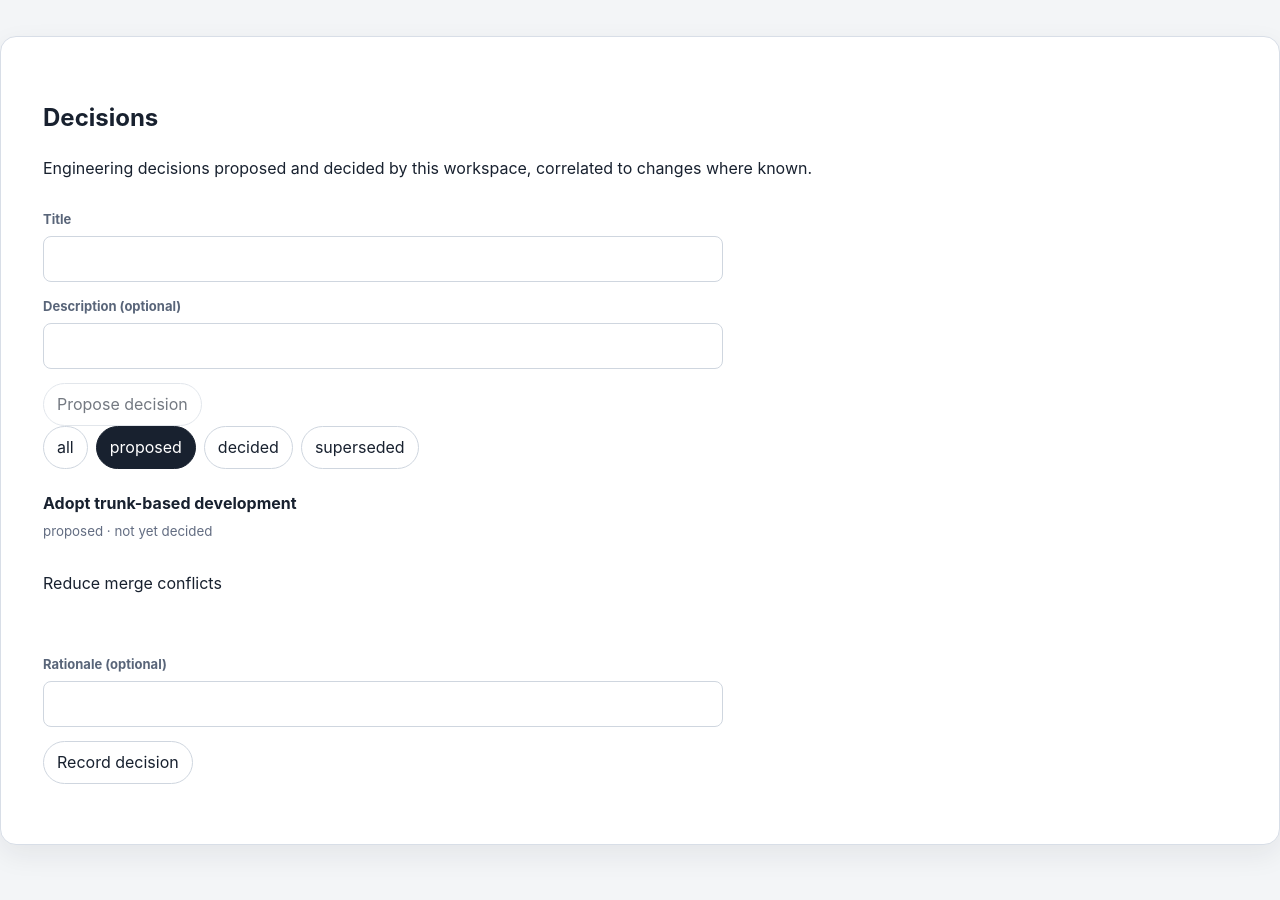
Test: DecisionsPanel › maps DECISION_NOT_PROPOSED to a readable sentence, never the raw code, and refetches so the stale row and its now-invalid action button don't linger
Expected: the text "Adopt trunk-based development" is shown, [43, 493, 297, 513]
Click the button "Record decision".
click(118, 763)  # box [43, 742, 193, 784]
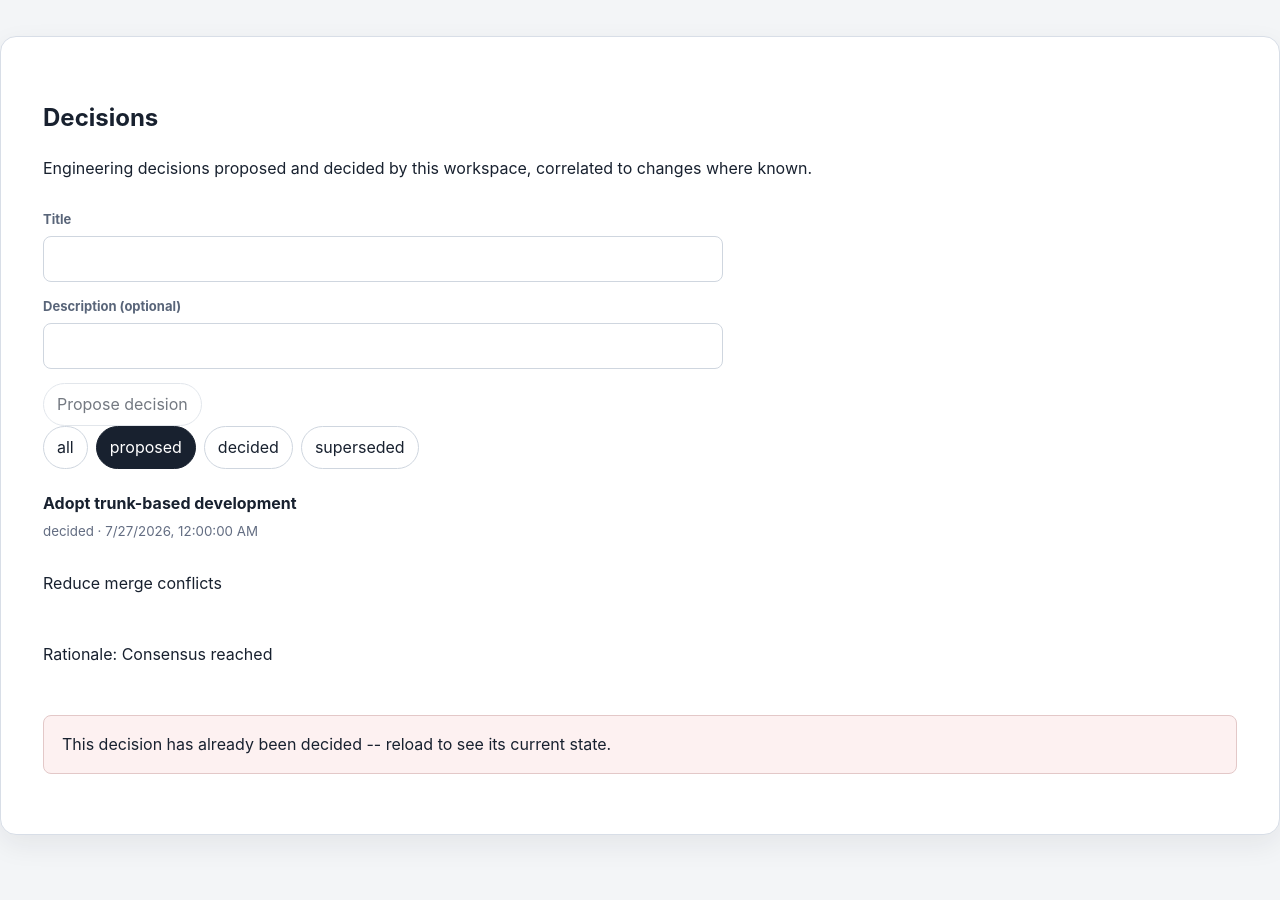
Expected: the text "This decision has already been decided -- reload to see its current state." is shown, [43, 715, 1237, 774]
Expected: the button "Record decision" is gone
Expected: the text "Rationale: Consensus reached" is shown, [43, 644, 272, 664]
